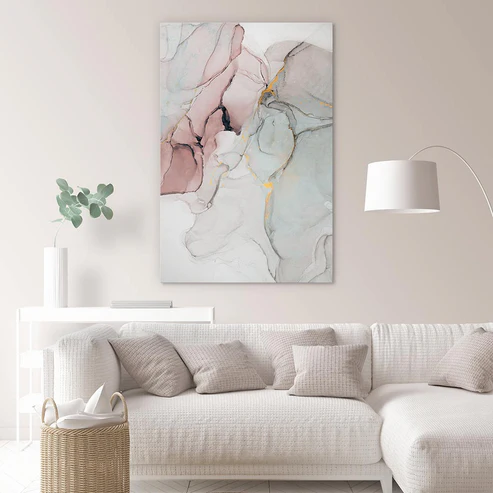painting: (159, 21, 334, 283)
